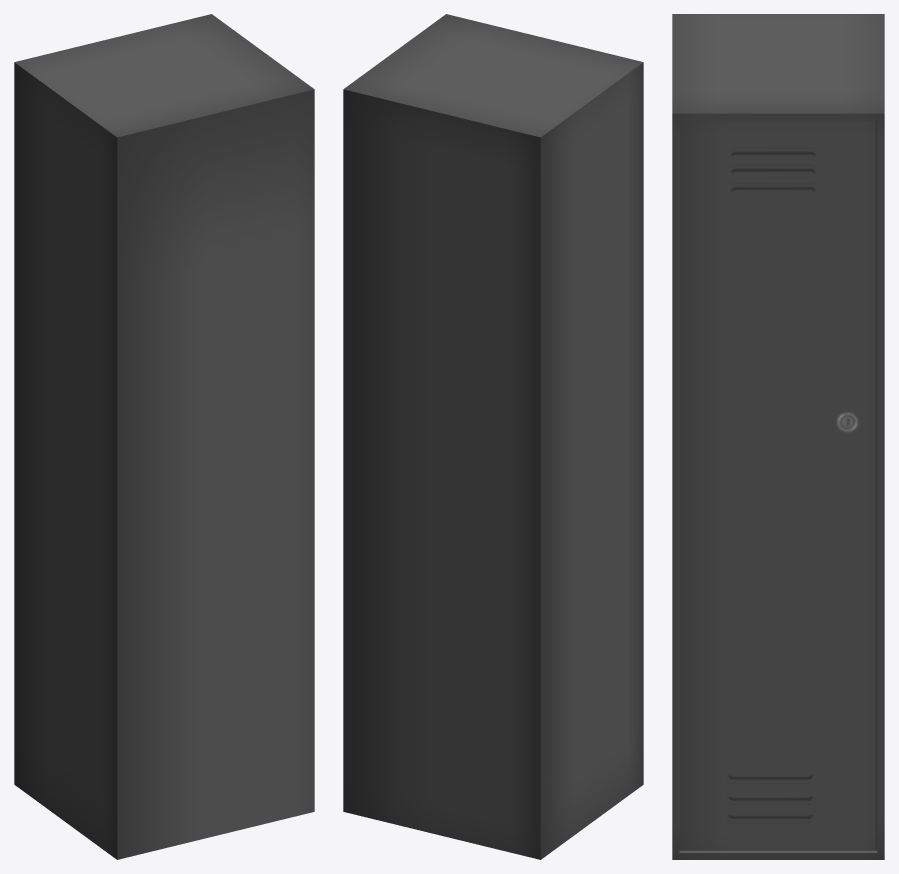
The model's file is drawer-tallest.FBX.
3 renders of one model, left to right at view 1: azimuth 30°, elevation 25°; view 2: azimuth 150°, elevation 25°; view 3: azimuth 270°, elevation 25°, orthographic. The views are drawn at different scales.
Visible parts, largest first — view 1: Box021; view 2: Box021; view 3: Box021.
Part boxes in pixels (x1,y1,x2,y2): Box021: (14,14,314,859); Box021: (343,14,643,859); Box021: (672,14,884,859).
Size of the model in its own units: 0.4123 by 1.44 by 0.3722.
